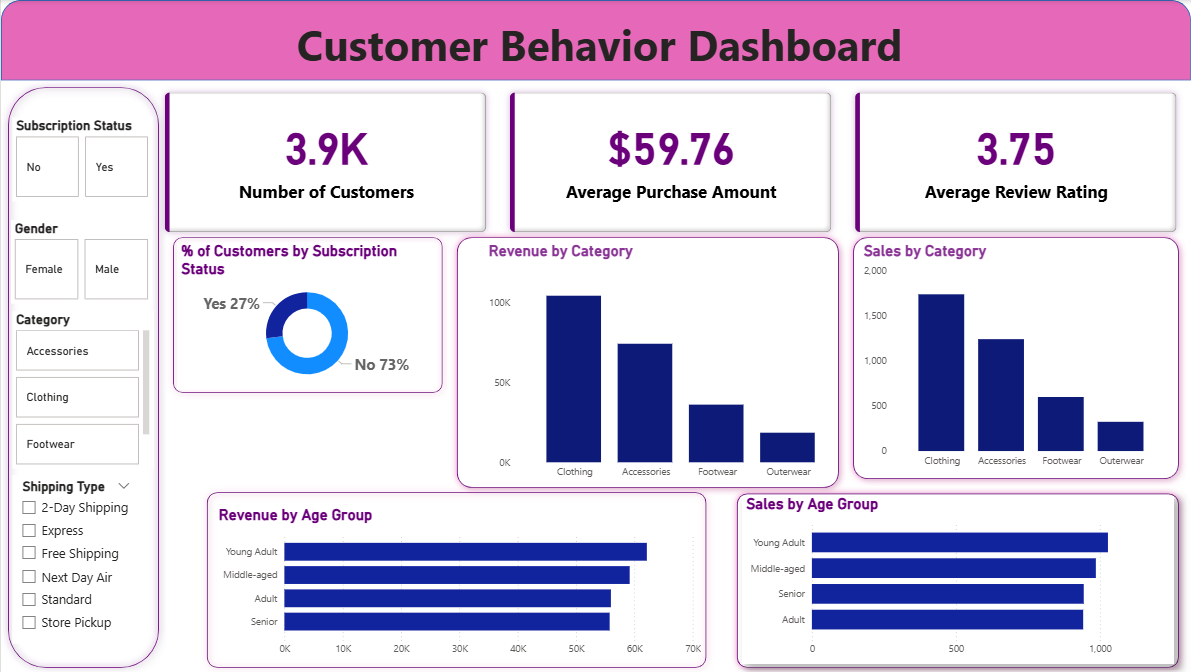

What the dashboard file says about the page in this screenshot:
{"tool":"powerbi","page":{"name":"Page 1","canvas":[1500,851],"ordinal":0},"visuals":[{"type":"cardVisual","fields":{"Data":["public customer.Number of Customers","public customer.Average Purchase Amount","public customer.Average Review Rating"]},"box":[190.7,100.9,1309.6,208],"z":0},{"type":"shape","box":[0,0,1500.3,101.6],"z":1000},{"type":"textbox","box":[9.8,14.7,1490.5,86.8],"z":2000},{"type":"shape","box":[208,290,357.7,214.3],"z":3000},{"type":"donutChart","title":"% of Customers by Subscription Status","fields":{"Category":["public customer.subscription_status"],"Y":["CountNonNull(public customer.customer_id)"]},"box":[222.2,305.7,327.8,186],"z":4000},{"type":"shape","box":[565.8,290,499.6,334.1],"z":5000},{"type":"shape","box":[1065.4,290,428.7,323.1],"z":6000},{"type":"clusteredColumnChart","title":"Revenue by Category","fields":{"Y":["Sum(public customer.purchase_amount)"],"Category":["public customer.category"]},"box":[609.9,305.7,460.2,307.3],"z":7000},{"type":"clusteredColumnChart","title":"Sales by Category","fields":{"Y":["CountNonNull(public customer.customer_id)"],"Category":["public customer.category"]},"box":[1082.7,305.7,395.6,293.1],"z":8000},{"type":"shape","box":[0,100.9,208,750.2],"z":9000},{"type":"advancedSlicerVisual","fields":{"Values":["public customer.gender"]},"box":[12.6,277.4,178.1,105.6],"z":10000},{"type":"advancedSlicerVisual","fields":{"Values":["public customer.subscription_status"]},"box":[14.2,148.1,176.5,105.6],"z":11000},{"type":"advancedSlicerVisual","fields":{"Values":["public customer.category"]},"box":[14.2,392.4,178.1,198.6],"z":12000},{"type":"slicer","fields":{"Values":["public customer.shipping_type"]},"box":[14.2,598.9,160.7,212.8],"z":13000},{"type":"clusteredBarChart","title":"Revenue by Age Group","fields":{"Y":["Sum(public customer.purchase_amount)"],"Category":["public customer.age_group"]},"box":[269.5,638.3,617.8,198.6],"z":14000},{"type":"shape","box":[250.6,611.5,647.7,239.5],"z":15000},{"type":"shape","box":[918.8,613.1,575.2,238],"z":16000},{"type":"clusteredBarChart","title":"Sales by Age Group","fields":{"Y":["CountNonNull(public customer.customer_id)"],"Category":["public customer.age_group"]},"box":[934.5,624.1,543.7,212.8],"z":17000}]}

Visuals, with their boxes in screenshot pixels (x1, y1, x2, y2), scaled from the page's 1500x851 canvas onto the 1191x672 screenshot:
cardVisual - public customer.Number of Customers x public customer.Average Purchase Amount: <bbox>151, 80, 1190, 244</bbox>
shape: <bbox>0, 0, 1190, 80</bbox>
textbox: <bbox>8, 12, 1190, 80</bbox>
shape: <bbox>165, 229, 449, 398</bbox>
"% of Customers by Subscription Status" donutChart: <bbox>176, 241, 437, 388</bbox>
shape: <bbox>449, 229, 846, 493</bbox>
shape: <bbox>846, 229, 1186, 484</bbox>
"Revenue by Category" clusteredColumnChart: <bbox>484, 241, 850, 484</bbox>
"Sales by Category" clusteredColumnChart: <bbox>860, 241, 1174, 473</bbox>
shape: <bbox>0, 80, 165, 671</bbox>
advancedSlicerVisual - public customer.gender: <bbox>10, 219, 151, 302</bbox>
advancedSlicerVisual - public customer.subscription_status: <bbox>11, 117, 151, 200</bbox>
advancedSlicerVisual - public customer.category: <bbox>11, 310, 153, 467</bbox>
slicer - public customer.shipping_type: <bbox>11, 473, 139, 641</bbox>
"Revenue by Age Group" clusteredBarChart: <bbox>214, 504, 705, 661</bbox>
shape: <bbox>199, 483, 713, 671</bbox>
shape: <bbox>730, 484, 1186, 671</bbox>
"Sales by Age Group" clusteredBarChart: <bbox>742, 493, 1174, 661</bbox>
